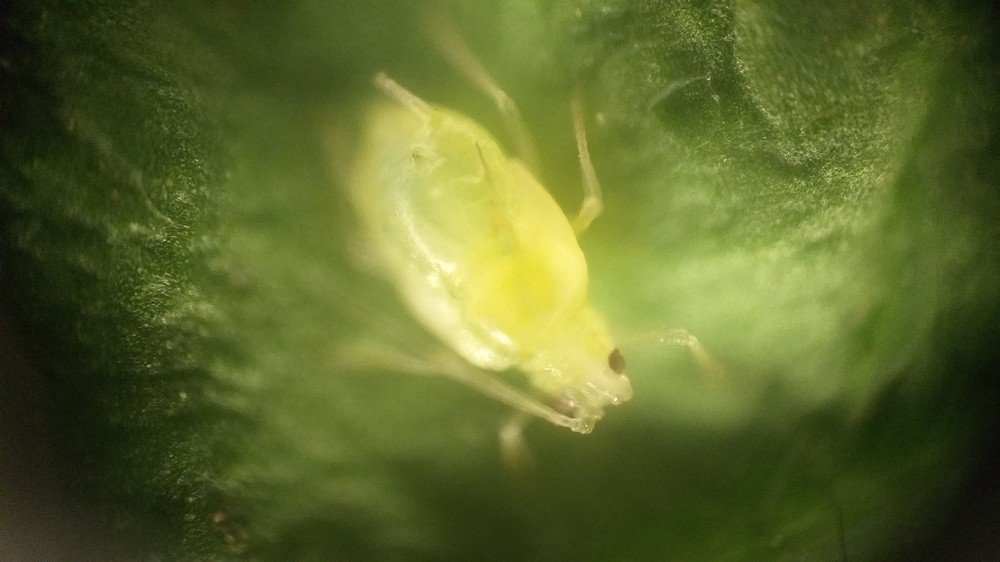Pulgon: (289, 19, 760, 510)
